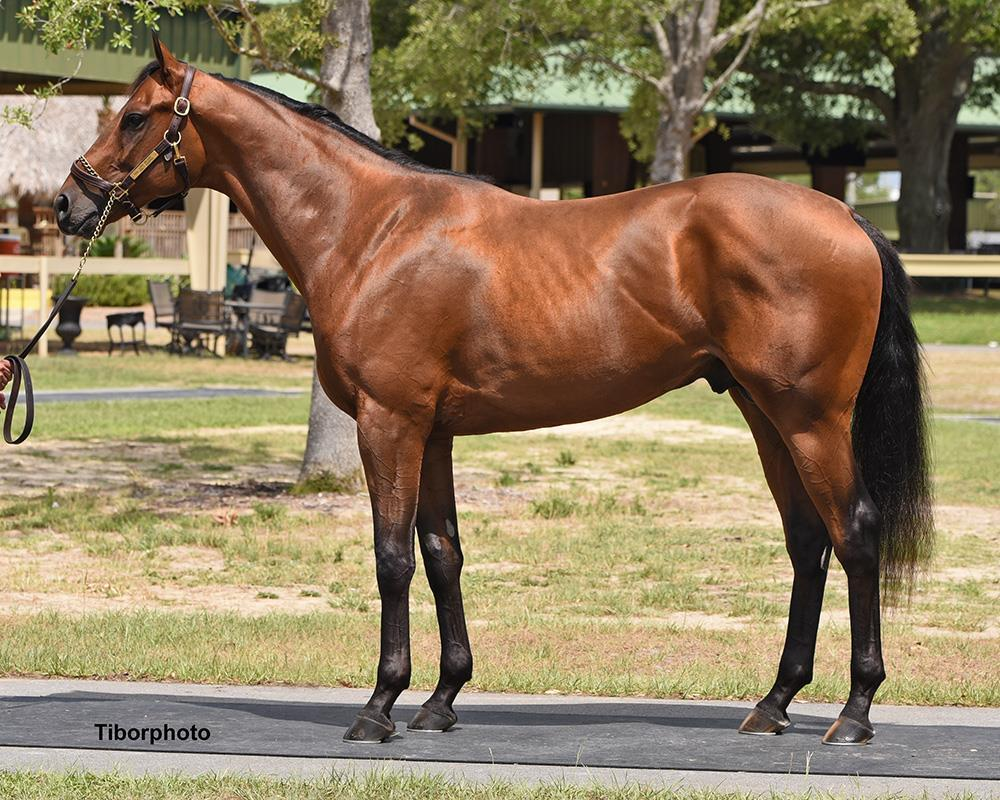horse: (44, 27, 946, 751)
